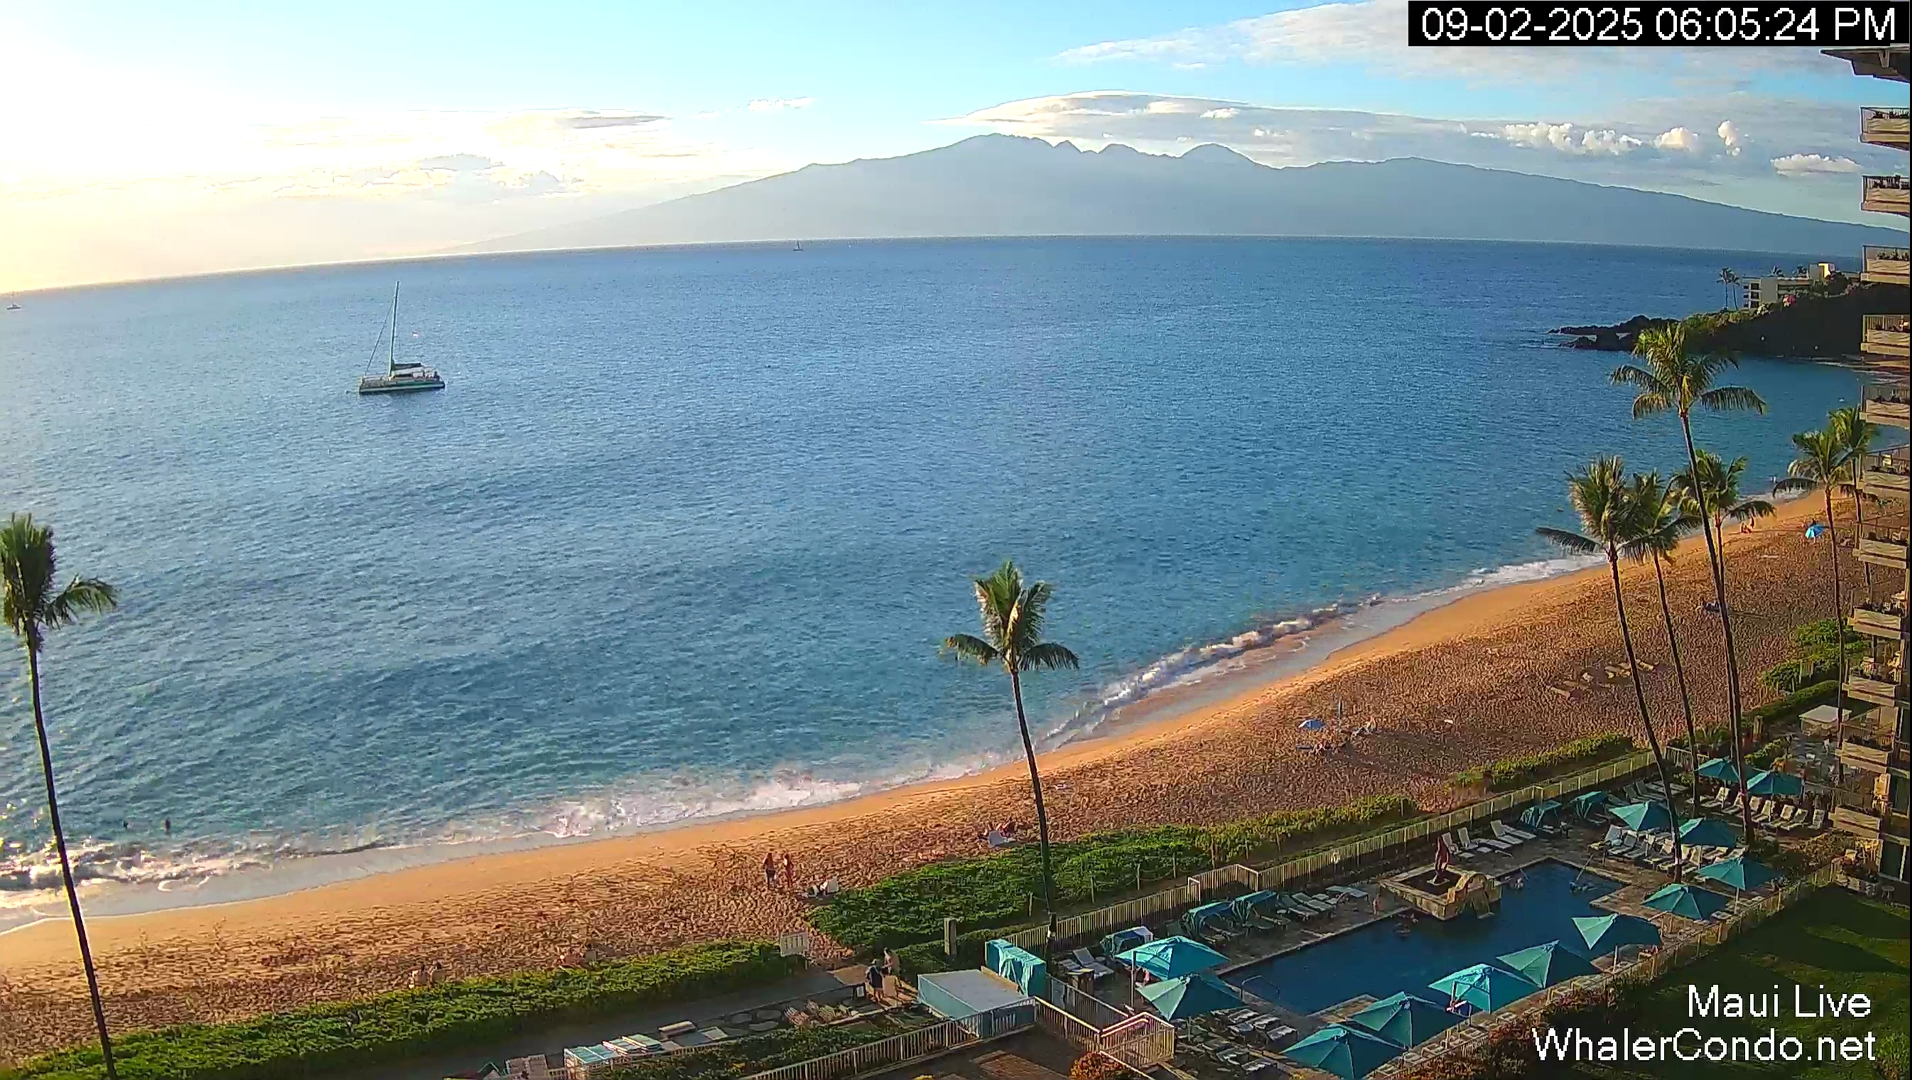boat: (358, 281, 446, 395), (1100, 925, 1152, 960), (1114, 941, 1152, 983), (601, 1033, 640, 1060), (1135, 981, 1152, 1005), (6, 291, 21, 310), (793, 240, 805, 252), (6, 303, 22, 311)
person: (865, 959, 886, 1003), (763, 852, 777, 889), (883, 947, 900, 976), (783, 853, 795, 888), (165, 817, 172, 833), (123, 821, 128, 828)
